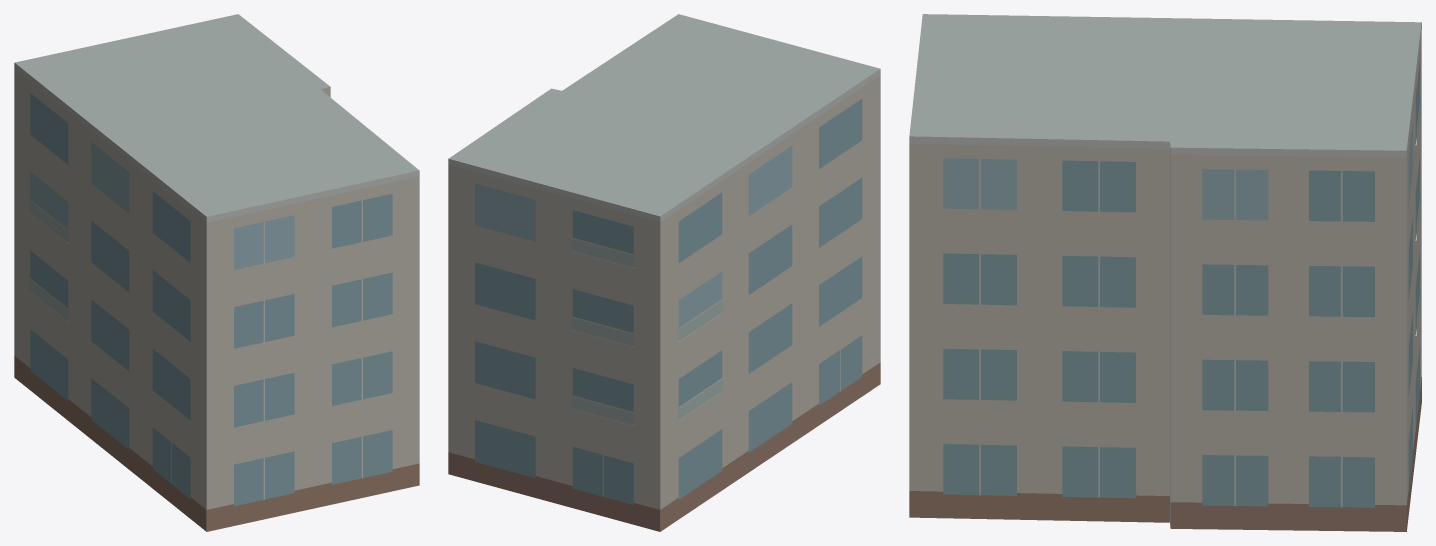
Rendered from survey-upis-32941124.glb.
3 views of the same model, side by side, from view 1: azimuth 30°, elevation 25°; view 2: azimuth 150°, elevation 25°; view 3: azimuth 270°, elevation 25° (orthographic). The views are drawn at different scales.
Visible parts, largest first — view 1: survey-upis-32941124.tmp; view 2: survey-upis-32941124.tmp; view 3: survey-upis-32941124.tmp.
Boxes of the visible parts, <box> form: survey-upis-32941124.tmp: <box>14,14,419,531</box>; survey-upis-32941124.tmp: <box>448,14,880,531</box>; survey-upis-32941124.tmp: <box>909,14,1421,531</box>.
Size of the model in its own units: 9.93 by 12.9 by 15.73.
